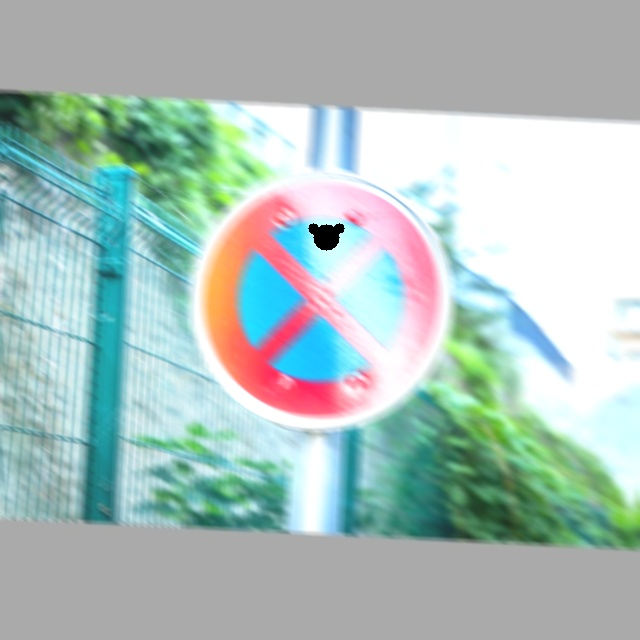No_Stopping_or_Standing: (189, 180, 458, 424)
